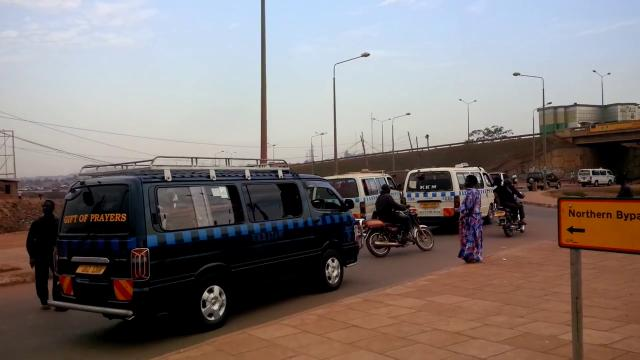car: (526, 171, 561, 190)
motorcycle: (365, 183, 436, 259), (494, 178, 532, 235), (615, 172, 634, 199)
van: (47, 156, 362, 329), (401, 165, 498, 225), (318, 170, 391, 226), (577, 168, 614, 187)
